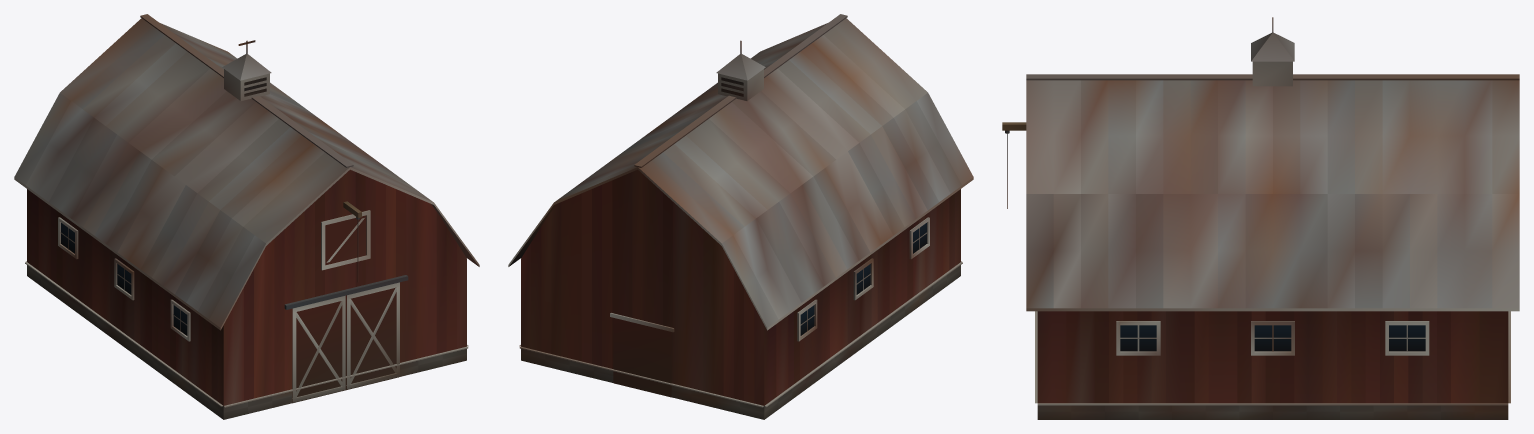
The model's file is barn.glb.
3 views of the same model, side by side, from view 1: azimuth 30°, elevation 25°; view 2: azimuth 150°, elevation 25°; view 3: azimuth 270°, elevation 25° (orthographic). The views are drawn at different scales.
Visible parts, largest first — view 1: Barn; view 2: Barn; view 3: Barn.
Part boxes in pixels (<box>): Barn: <box>14,14,479,419</box>; Barn: <box>508,14,973,419</box>; Barn: <box>1002,17,1519,419</box>.
Size of the model in its own units: 10.64 by 10.9 by 15.39.
